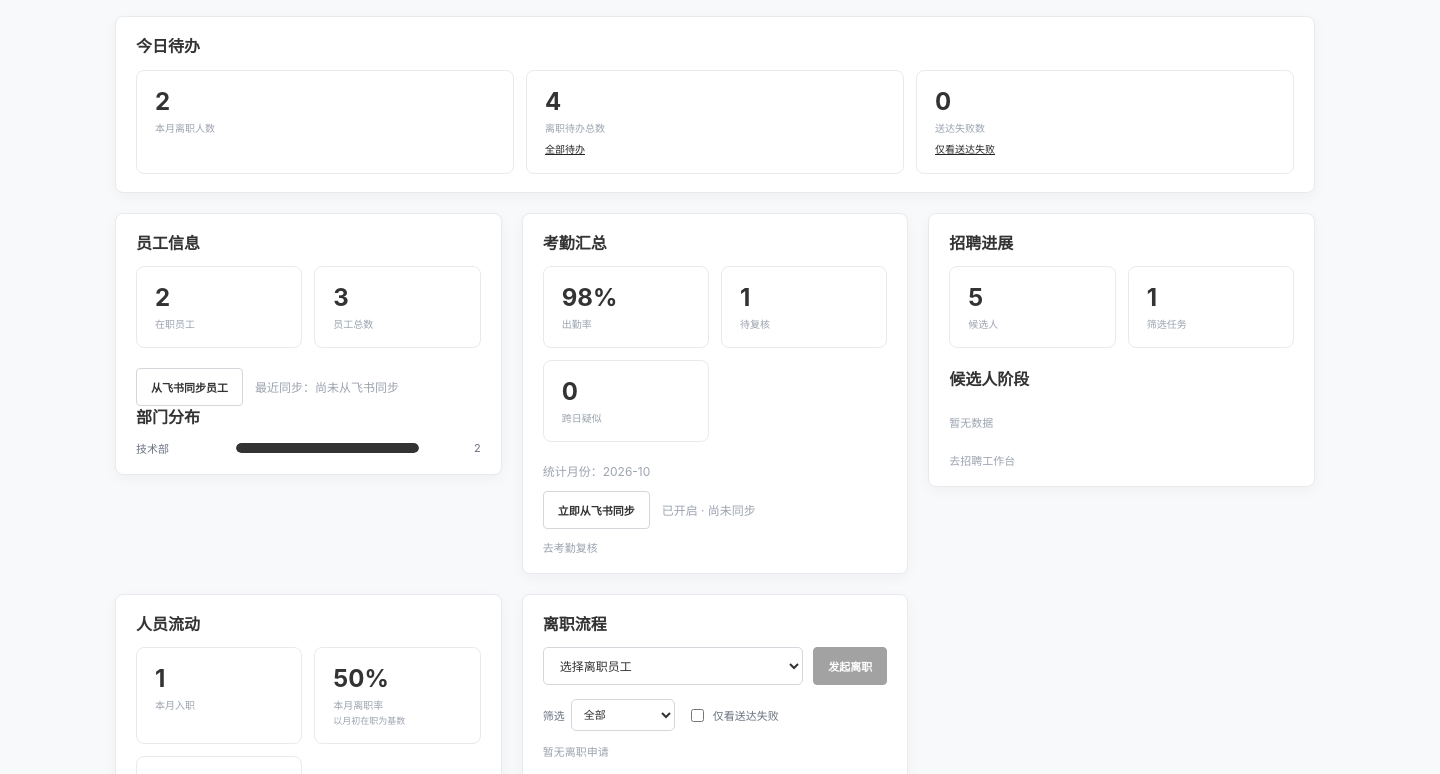
it: 人事中台：员工同步失败持久提示 › 同步失败后页内持久展示后端 detail，恢复成功后清除
Click the button "从飞书同步员工" at [190, 387], box x1=136 y1=368 x2=243 y2=406
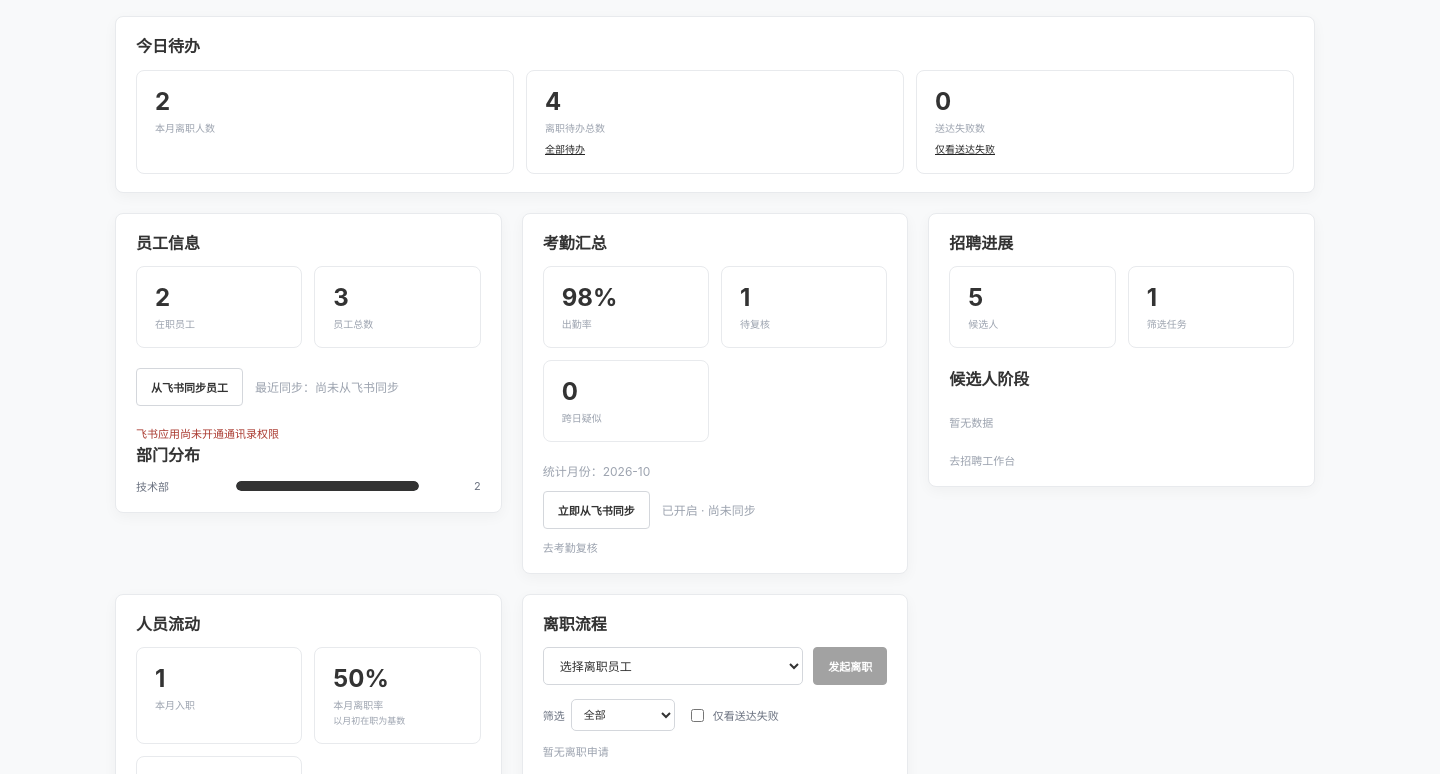
Now the message "飞书应用尚未开通通讯录权限" is shown, box x1=136 y1=426 x2=279 y2=444
Now the message with class "hr-error" reads "飞书应用尚未开通通讯录权限", box x1=136 y1=427 x2=279 y2=441
Click the button "从飞书同步员工" at [190, 387], box x1=136 y1=368 x2=243 y2=406
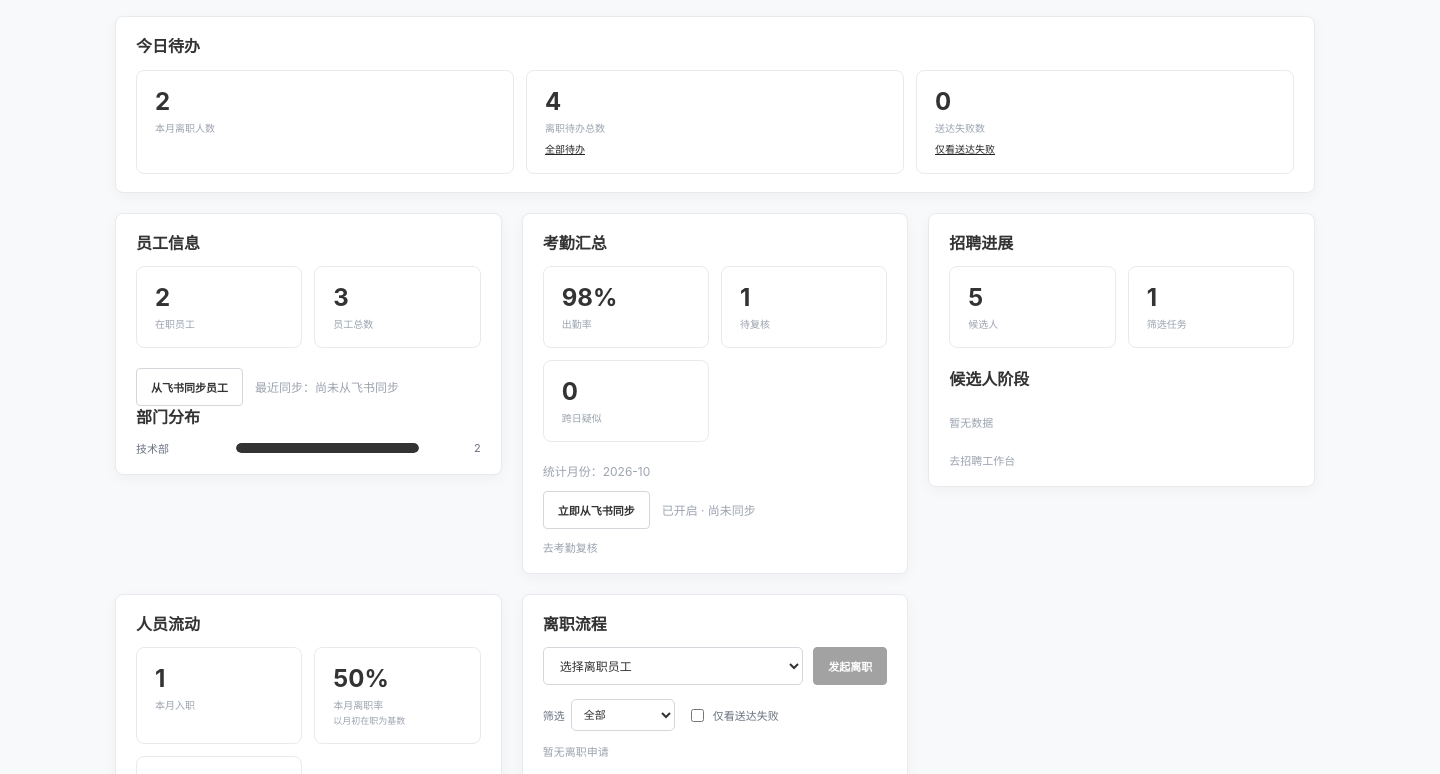
Now the message with class "hr-error" is gone
